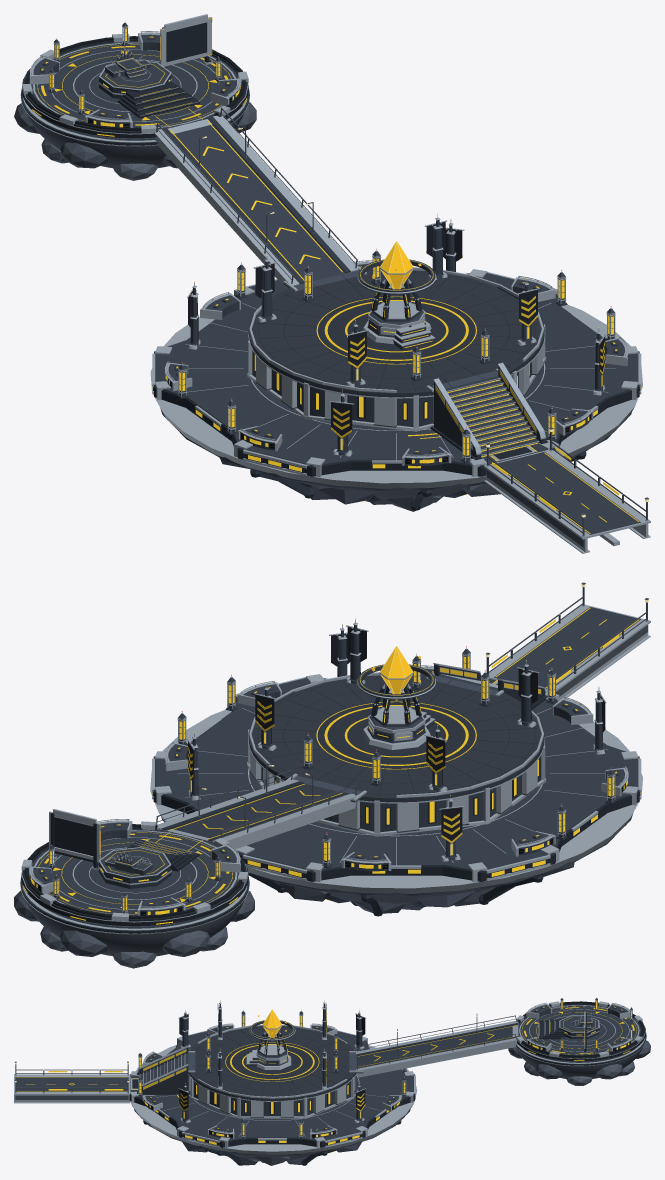
The model's file is summit.glb.
The picture shows the model from 3 angles, top to bottom: view 1: azimuth 30°, elevation 25°; view 2: azimuth 150°, elevation 25°; view 3: azimuth 270°, elevation 25°; orthographic projection. The views are drawn at different scales.
Visible parts, largest first — view 1: citadel_terrace, plazaTerrace, rampBridge, throneIslandDeck, island_foundation, bridgeModule, scifi_stair, throne_island_foundation, altar, logo_backboard, standard_5, standard (+7 smaller); view 2: citadel_terrace, plazaTerrace, throneIslandDeck, island_foundation, bridgeModule, throne_island_foundation, rampBridge, altar, logo_backboard, scifi_stair, standard_4, standard_8 (+16 smaller); view 3: citadel_terrace, plazaTerrace, throneIslandDeck, rampBridge, island_foundation, bridgeModule, throne_island_foundation, scifi_stair, altar, standard_4, standard_6, standard_7 (+5 smaller).
Part boxes in pixels (box(x1,y1,x2,y2)): citadel_terrace: box(247, 264, 546, 431); plazaTerrace: box(152, 269, 641, 477); rampBridge: box(154, 107, 358, 289); throneIslandDeck: box(22, 33, 248, 138); island_foundation: box(150, 304, 642, 511); bridgeModule: box(484, 427, 650, 553); scifi_stair: box(430, 362, 548, 460); throne_island_foundation: box(14, 88, 256, 180); altar: box(357, 241, 436, 350); logo_backboard: box(160, 14, 212, 68); standard_5: box(329, 389, 354, 456); standard: box(253, 255, 276, 322); citadel_terrace: box(247, 672, 546, 836); plazaTerrace: box(152, 674, 641, 882); throneIslandDeck: box(21, 821, 248, 926); island_foundation: box(150, 709, 642, 916); bridgeModule: box(486, 582, 650, 700); throne_island_foundation: box(14, 877, 254, 968); rampBridge: box(156, 763, 357, 848); altar: box(357, 646, 435, 749); logo_backboard: box(47, 809, 100, 870); scifi_stair: box(433, 663, 547, 709); standard_4: box(439, 795, 464, 861); standard_8: box(516, 660, 539, 727); citadel_terrace: box(188, 1025, 363, 1118); plazaTerrace: box(129, 1030, 415, 1147); throneIslandDeck: box(512, 1001, 645, 1061); rampBridge: box(356, 1014, 518, 1077); island_foundation: box(130, 1045, 417, 1165); bridgeModule: box(14, 1061, 129, 1103); throne_island_foundation: box(508, 1033, 650, 1085); scifi_stair: box(137, 1045, 189, 1094); altar: box(246, 1009, 295, 1069); standard_4: box(354, 1010, 365, 1049); standard_6: box(353, 1083, 366, 1122); standard_7: box(178, 1083, 190, 1123).
Size of what is drawn, in the model's own units: 50.04 by 28.7 by 110.
30 materials, 30 textured.
